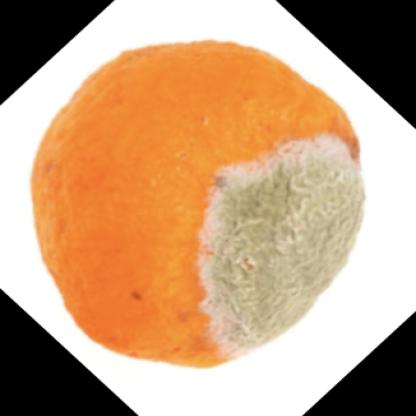rotten: (35, 41, 371, 371)
